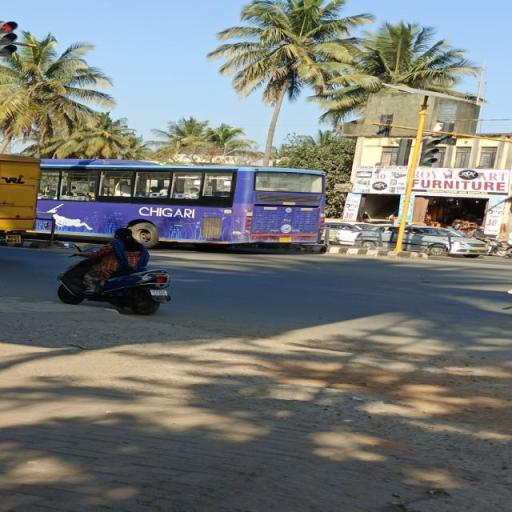bike: (66, 226, 178, 314)
numberplate: (151, 290, 167, 296)
withouthelmet: (115, 228, 133, 240)
